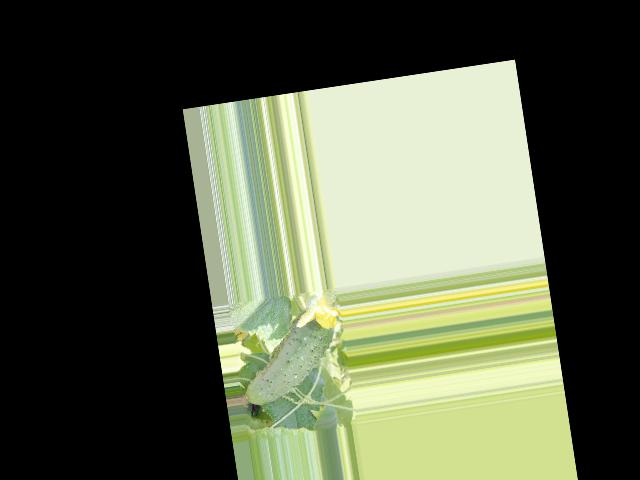cucumber: (229, 306, 343, 408)
